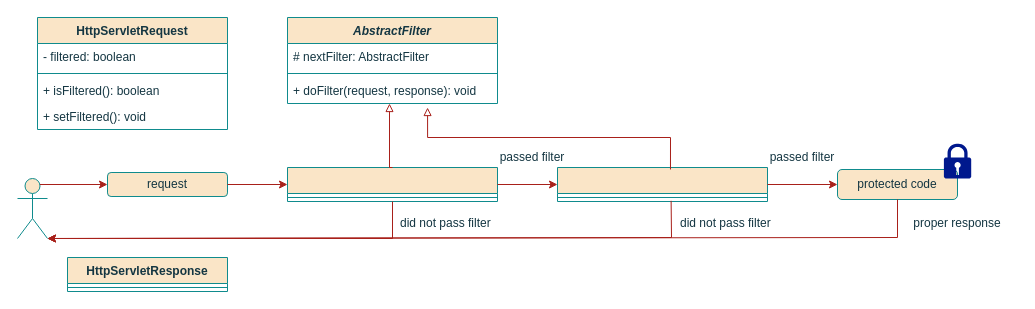
Some shapes in this 1035 by 309 pixel diagram are drawn without their labels. The shapes that lost their labels are listed below. From the top down, each one's box as (x1, y1, x2, y2) in pixels, then its label:
(286, 166, 498, 202): AuthenticationFilter
(556, 166, 768, 202): CorsFilter
(16, 178, 48, 238): user
